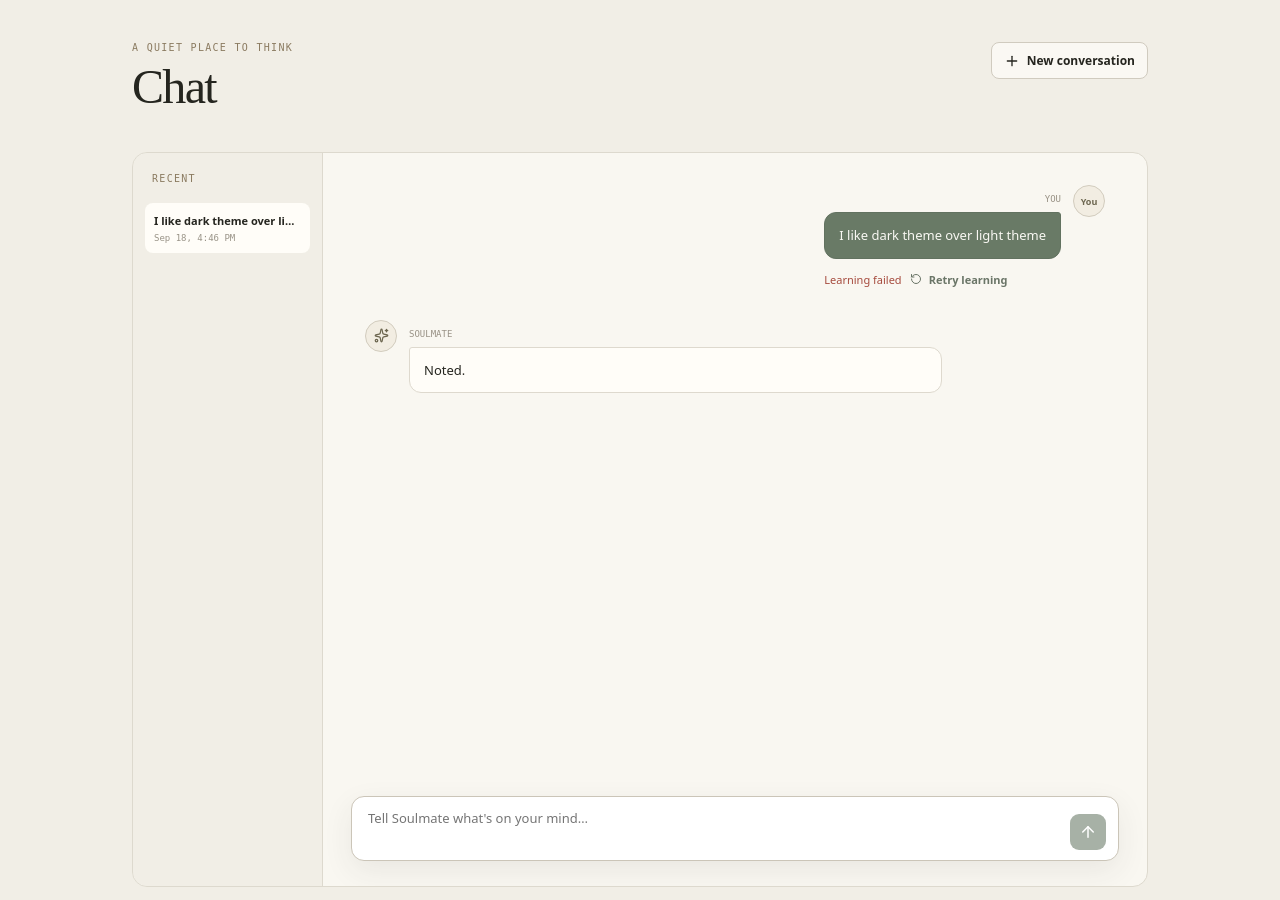
Test case: ChatScreen learning › shows the daemon error when a retry is rejected
# the owner retries
Click the button "Retry learning" at {"x": 959, "y": 279}, box [910, 265, 1008, 294]
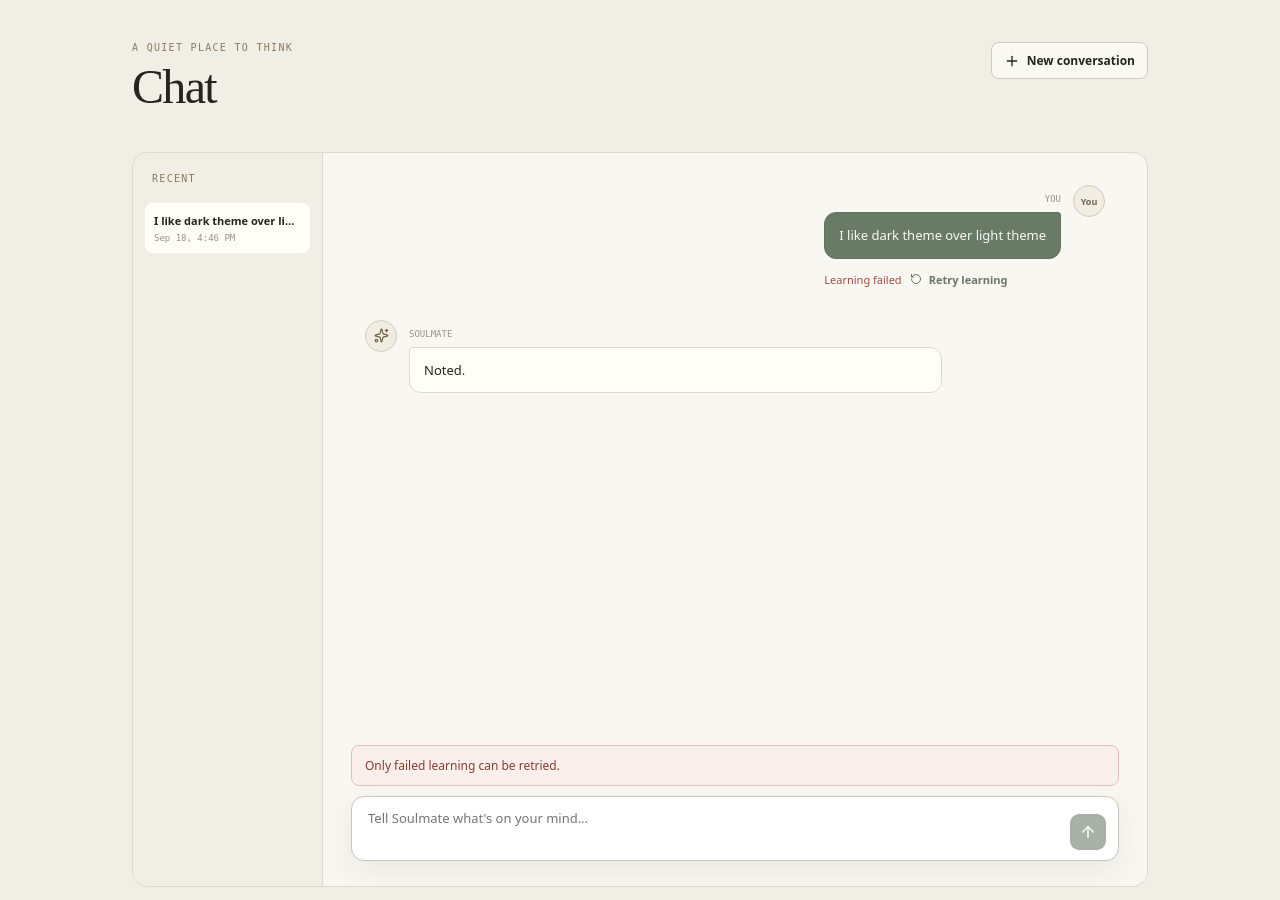
Expected: the text "Learning failed" is shown, [824, 272, 902, 287]
Now the text "Only failed learning can be retried." is shown, box [351, 745, 1119, 786]
